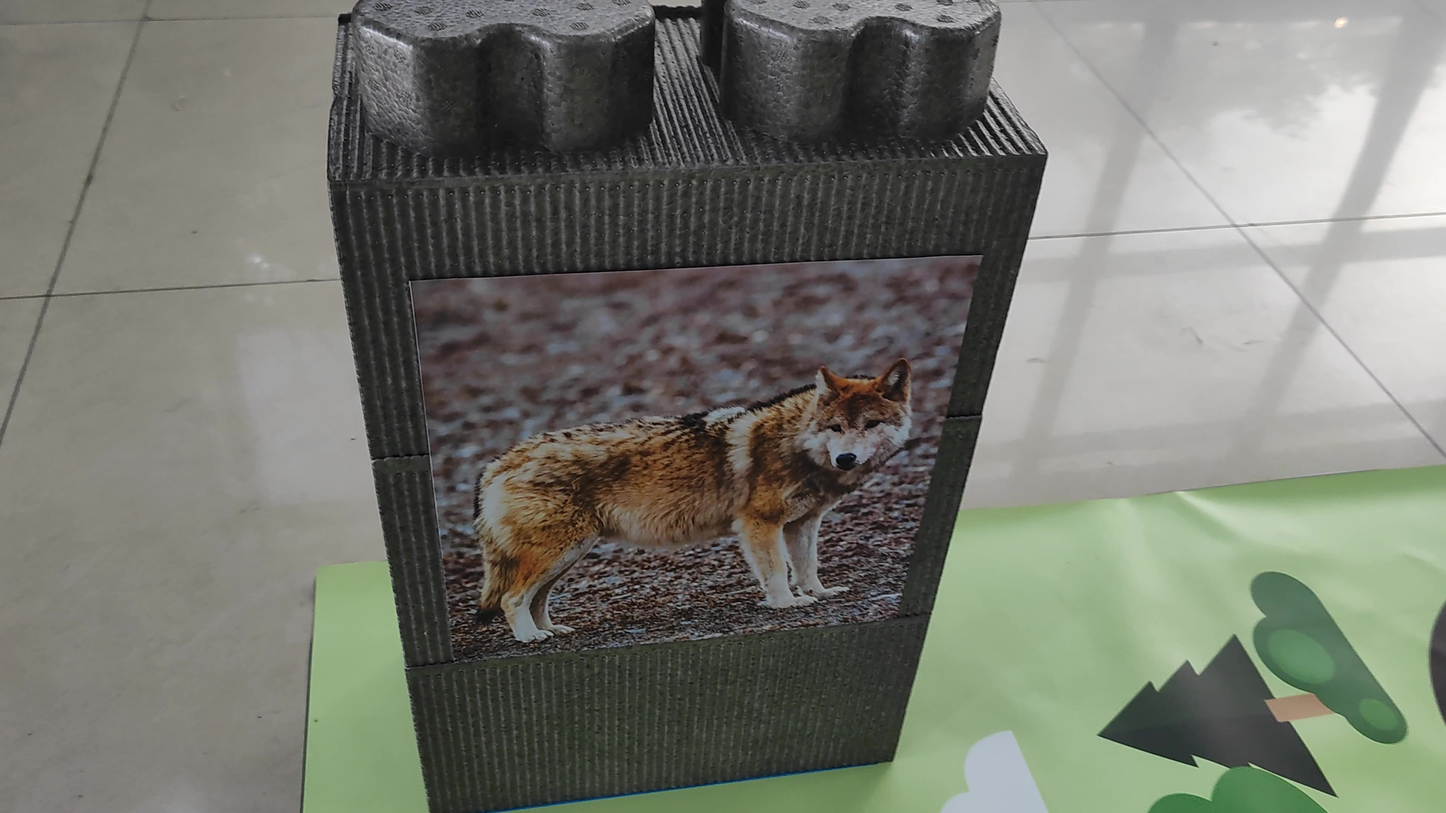wolf: (429, 312, 926, 661)
